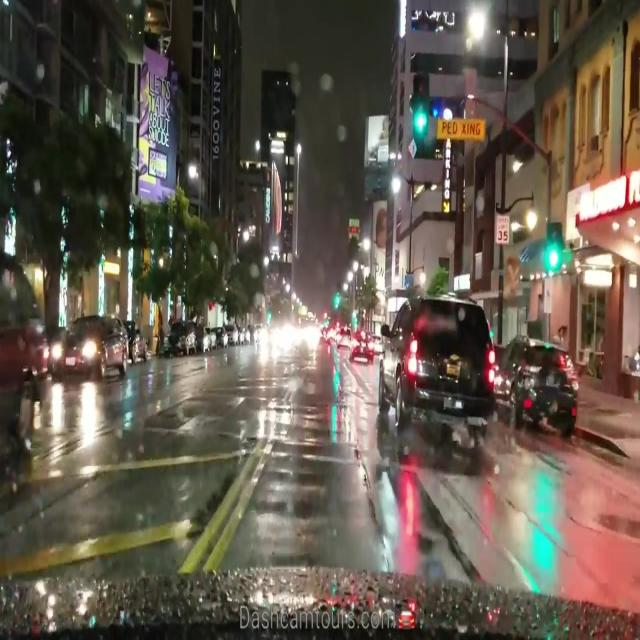Car: (372, 302, 495, 441), (2, 249, 44, 459), (496, 334, 570, 434), (53, 313, 126, 386), (164, 324, 194, 351)
